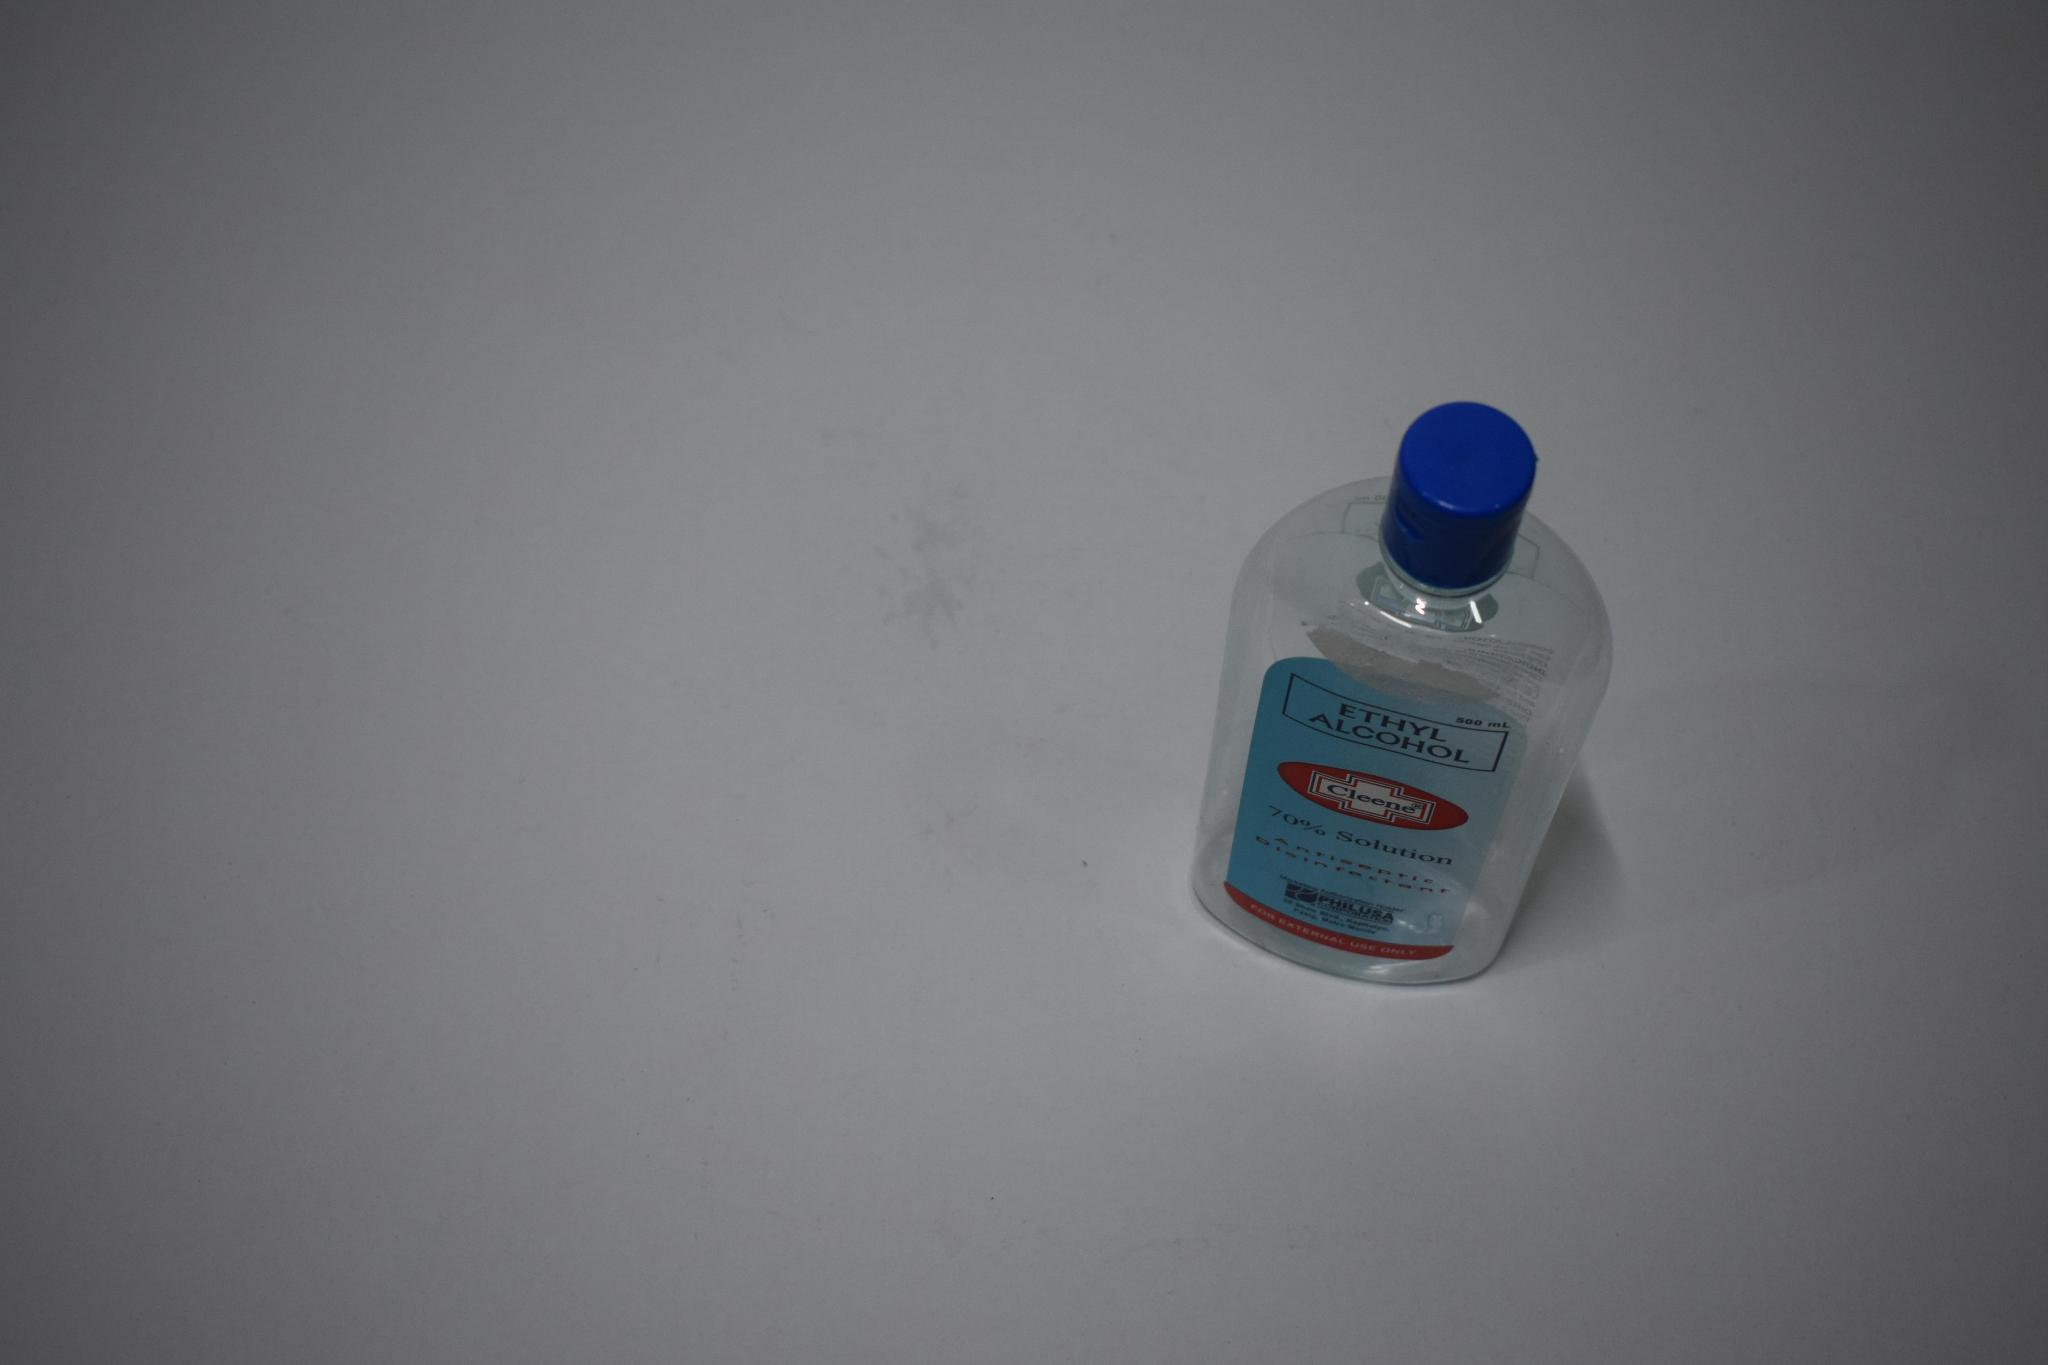bottle: (1171, 393, 1646, 1009)
